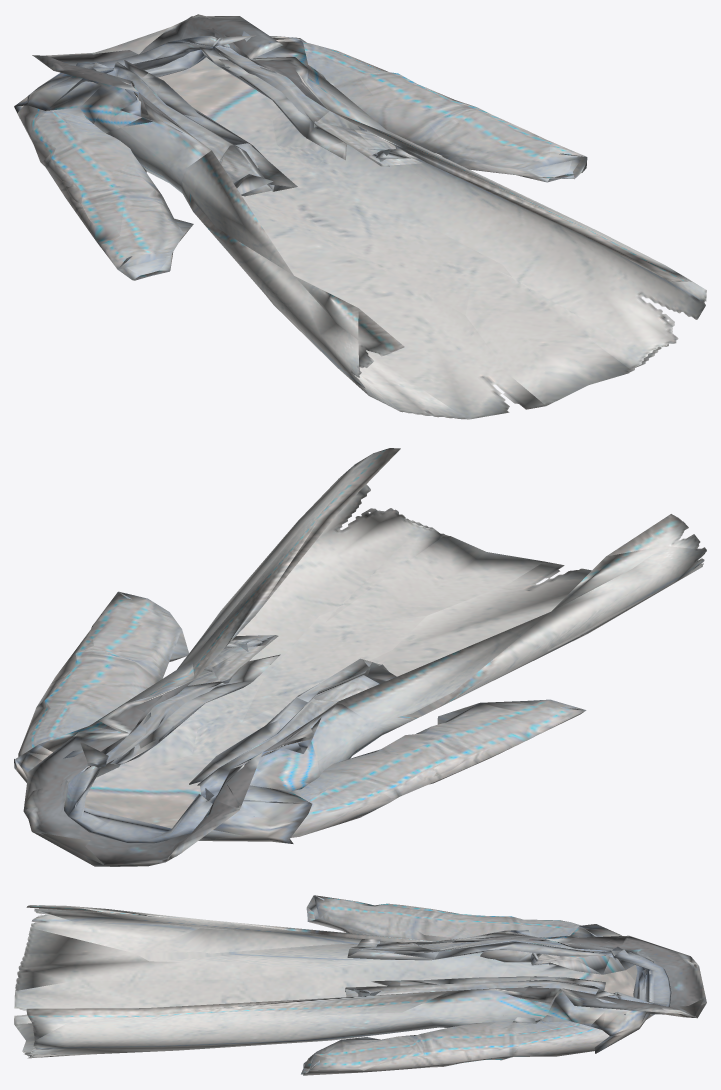
File: AbsolutistTrenchcoat_Ground.fbx
3 views of the same model, one above another, from view 1: azimuth 30°, elevation 25°; view 2: azimuth 150°, elevation 25°; view 3: azimuth 270°, elevation 25° (orthographic). The views are drawn at different scales.
Parts seen in each view (by area): view 1: AbsolutistTrenchcoat; view 2: AbsolutistTrenchcoat; view 3: AbsolutistTrenchcoat.
Boxes of the visible parts, x1,y1,x2,y2 form: AbsolutistTrenchcoat: [14, 14, 706, 419]; AbsolutistTrenchcoat: [14, 448, 706, 866]; AbsolutistTrenchcoat: [14, 895, 706, 1075].
Size of the model in its own units: 0.408 by 0.0717 by 0.6782.
